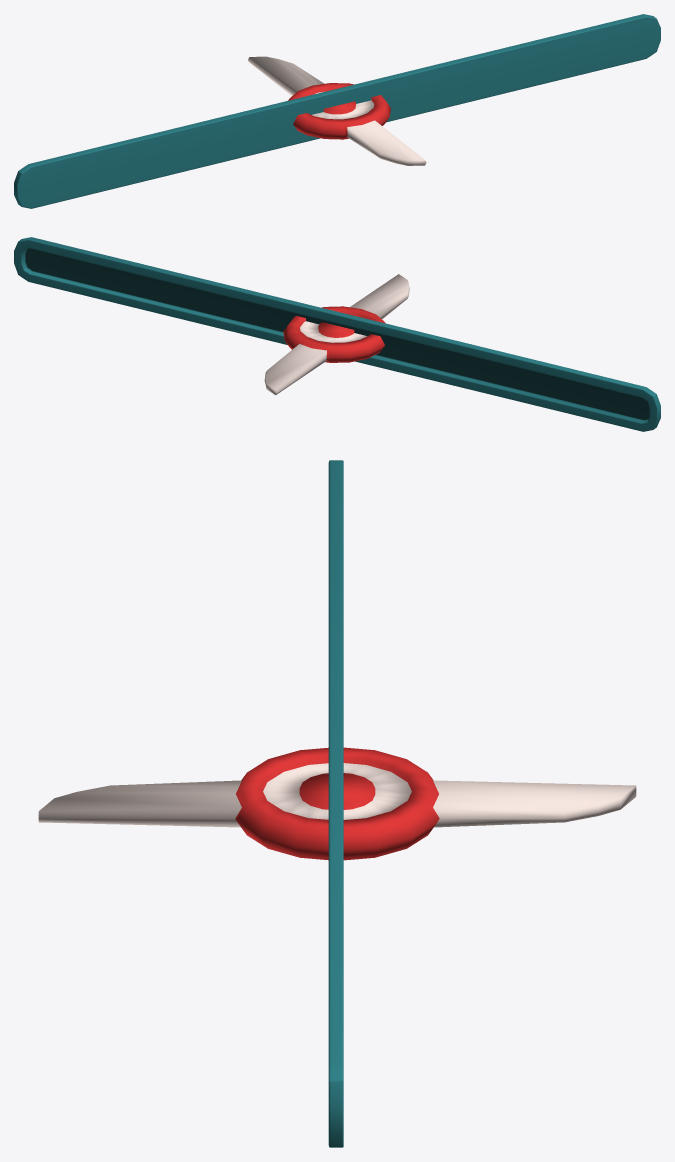
Rendered from Cutter9.fbx.
The picture shows the model from 3 angles, top to bottom: view 1: azimuth 30°, elevation 25°; view 2: azimuth 150°, elevation 25°; view 3: azimuth 270°, elevation 25°; orthographic projection. The views are drawn at different scales.
Visible parts, largest first — view 1: Plane.002, Cylinder.019; view 2: Plane.002, Cylinder.019; view 3: Cylinder.019, Plane.002.
Part boxes in pixels (x1=…): Plane.002: x1=14, y1=14, x2=660, y2=208; Cylinder.019: x1=248, y1=56, x2=426, y2=165; Plane.002: x1=14, y1=237, x2=660, y2=431; Cylinder.019: x1=264, y1=274, x2=409, y2=395; Cylinder.019: x1=38, y1=747, x2=636, y2=860; Plane.002: x1=328, y1=460, x2=343, y2=1147.
Size of the model in its own units: 7.99 by 0.5037 by 3.21.
